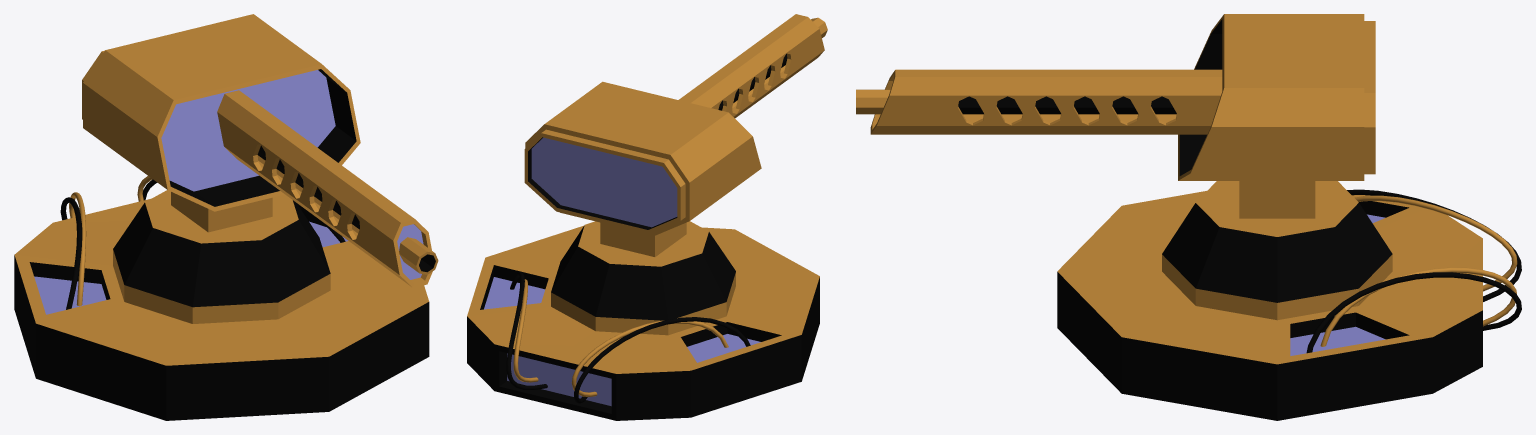
The model's file is MACHINE.fbx.
The picture shows the model from 3 angles, left to right: view 1: azimuth 30°, elevation 25°; view 2: azimuth 150°, elevation 25°; view 3: azimuth 270°, elevation 25°; orthographic projection. The views are drawn at different scales.
Visible parts, largest first — view 1: HEAD, MACHINE.GUN, NurbsPath.001, NurbsPath; view 2: HEAD, MACHINE.GUN, NurbsPath.001, NurbsPath; view 3: HEAD, MACHINE.GUN, NurbsPath.001, NurbsPath.
Part boxes in pixels (x1,y1,x2,y2): HEAD: (82,14,438,323); MACHINE.GUN: (14,199,429,420); NurbsPath.001: (60,179,345,309); NurbsPath: (69,176,152,306); HEAD: (524,14,827,335); MACHINE.GUN: (467,225,819,420); NurbsPath.001: (506,272,750,403); NurbsPath: (513,279,728,396); HEAD: (856,14,1392,320); MACHINE.GUN: (1057,191,1482,420); NurbsPath.001: (1306,189,1521,353); NurbsPath: (1320,195,1517,346).
Bounding box in the file's own units: 65.84 × 45.93 × 99.63.
